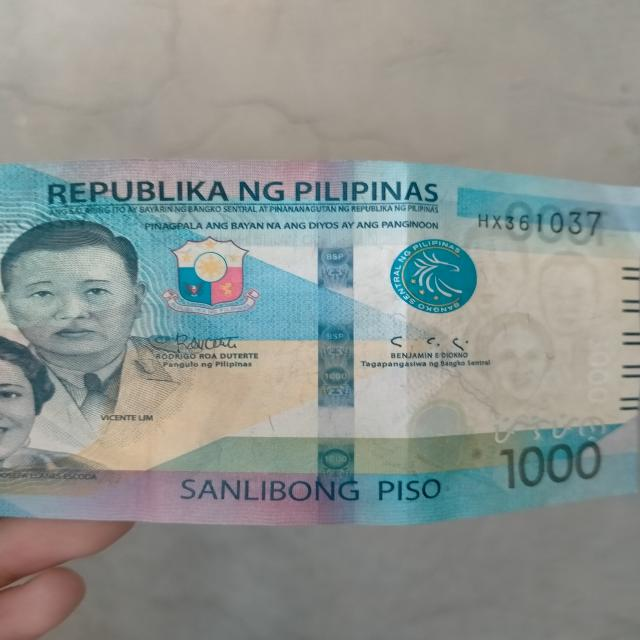security_thread: (314, 160, 359, 526)
see_through_mark: (468, 409, 634, 451)
serial_number: (470, 194, 617, 244)
value_watermark: (576, 327, 621, 419)
watermark: (445, 215, 600, 408)
